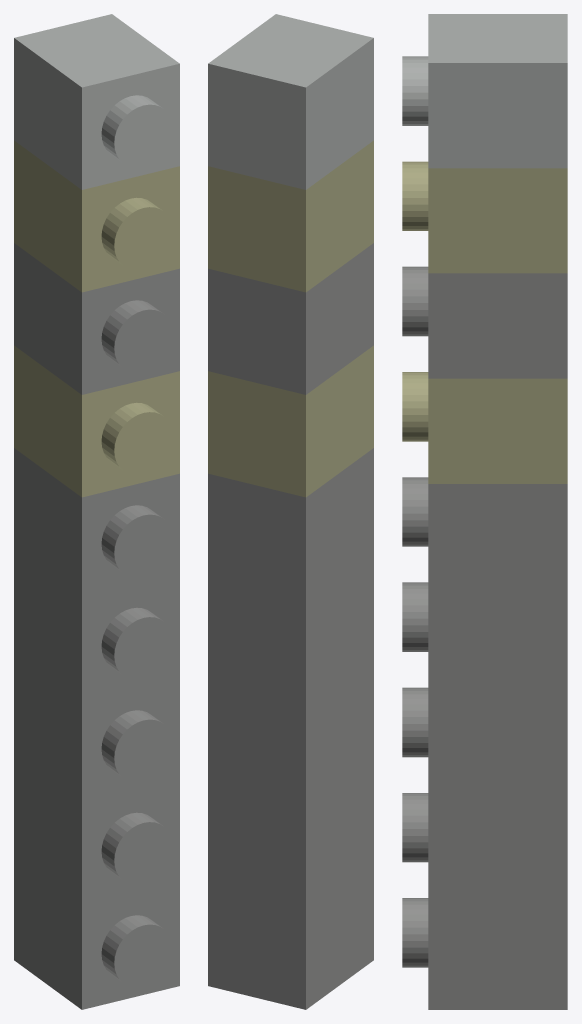
Rendered from current.glb.
The picture shows the model from 3 angles, left to right: view 1: azimuth 30°, elevation 25°; view 2: azimuth 150°, elevation 25°; view 3: azimuth 270°, elevation 25°; orthographic projection. The views are drawn at different scales.
Visible parts, largest first — view 1: world; view 2: world; view 3: world.
Boxes of the visible parts, left/top/right/bottom form: world: left=14, top=14, right=179, bottom=1009; world: left=208, top=14, right=373, bottom=1009; world: left=402, top=14, right=567, bottom=1009.
Size of the model in its own units: 8 by 72 by 11.4.
